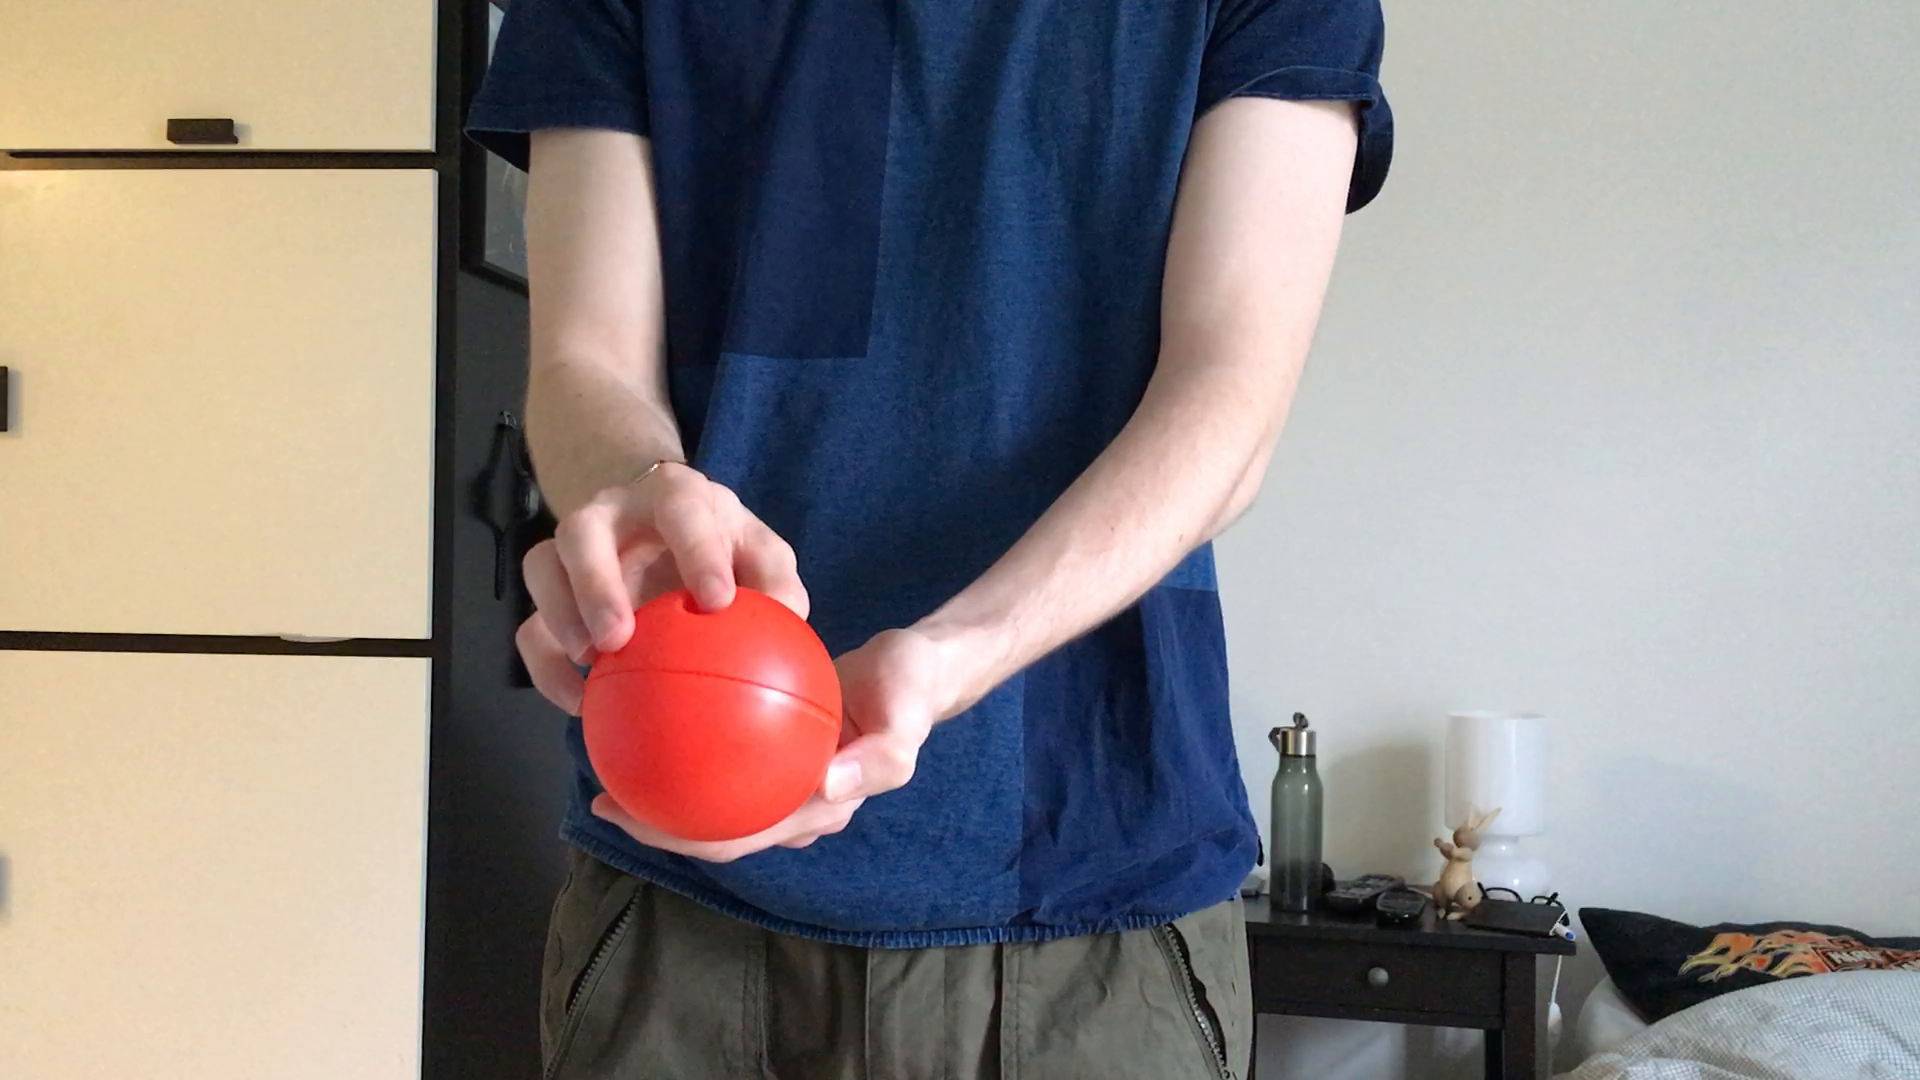Ball: (587, 585, 837, 836)
